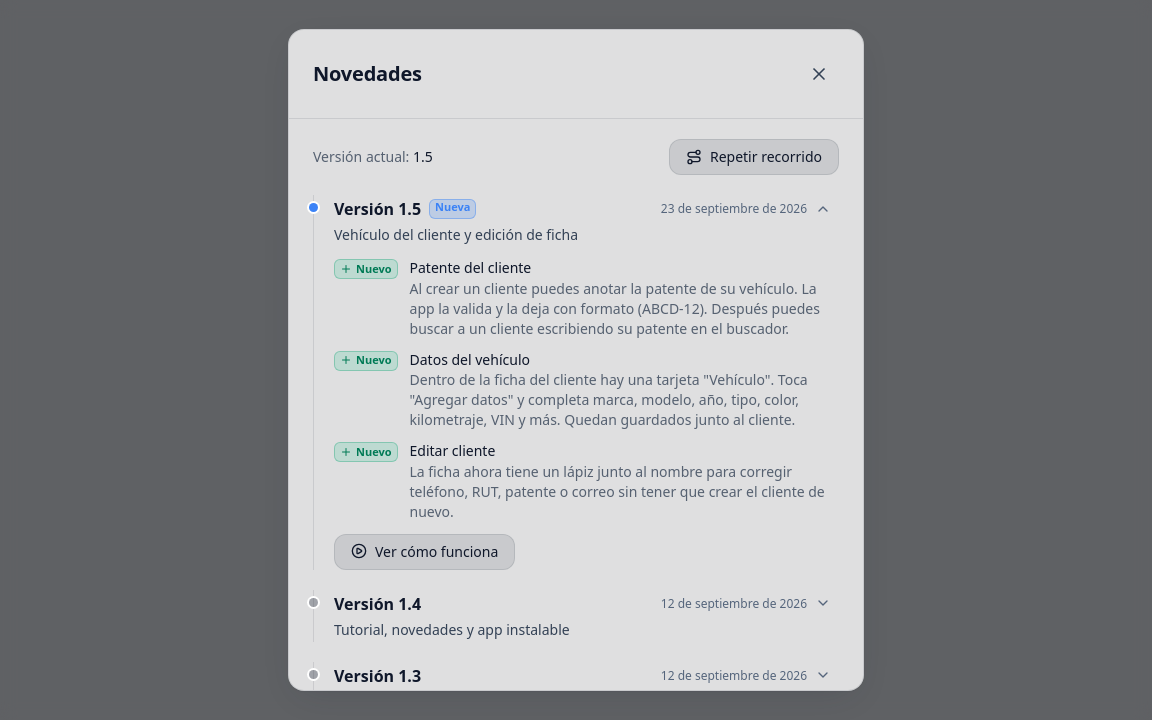
Novedades › todas las versiones; solo la nueva desplegada; las demás se abren al toque
The image size is (1152, 720).
expect the text "Nueva" is shown once: met, box [429,199,476,219]
expect the text "Patente del cliente" is shown: met, box [410,258,531,277]
Click the 5th button.
click(366, 603)  # box [330,589,835,641]
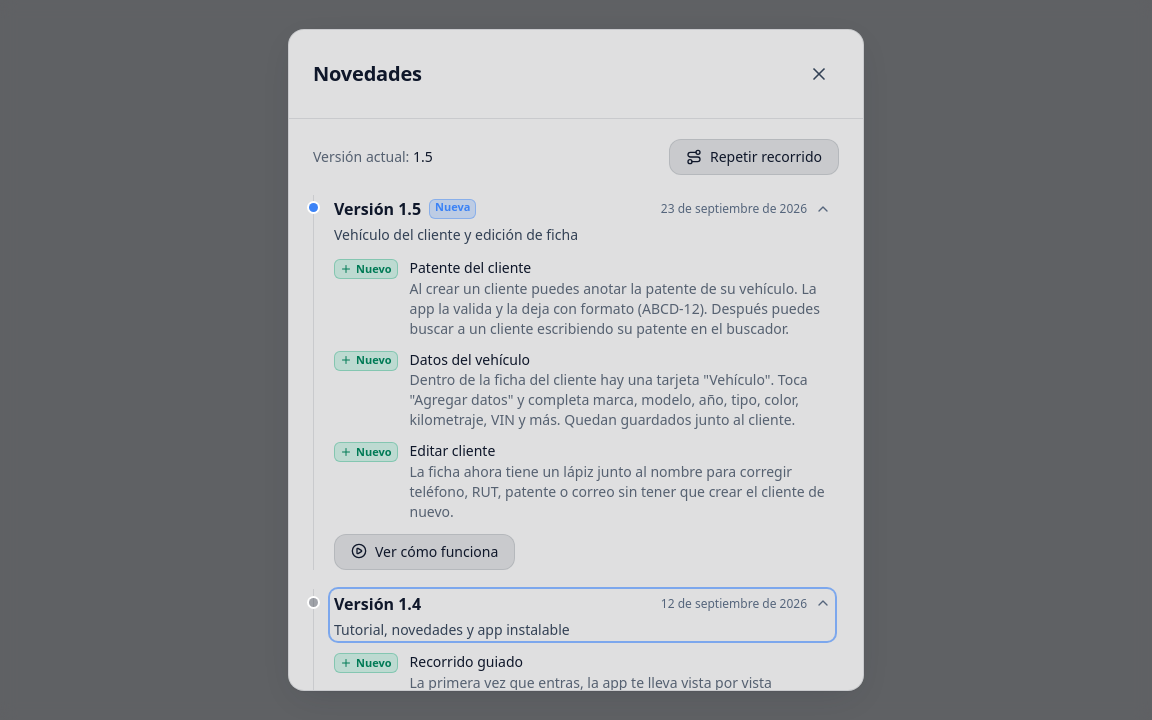
expect the text "Recorrido guiado" is shown: met, box [410,652,523,671]
